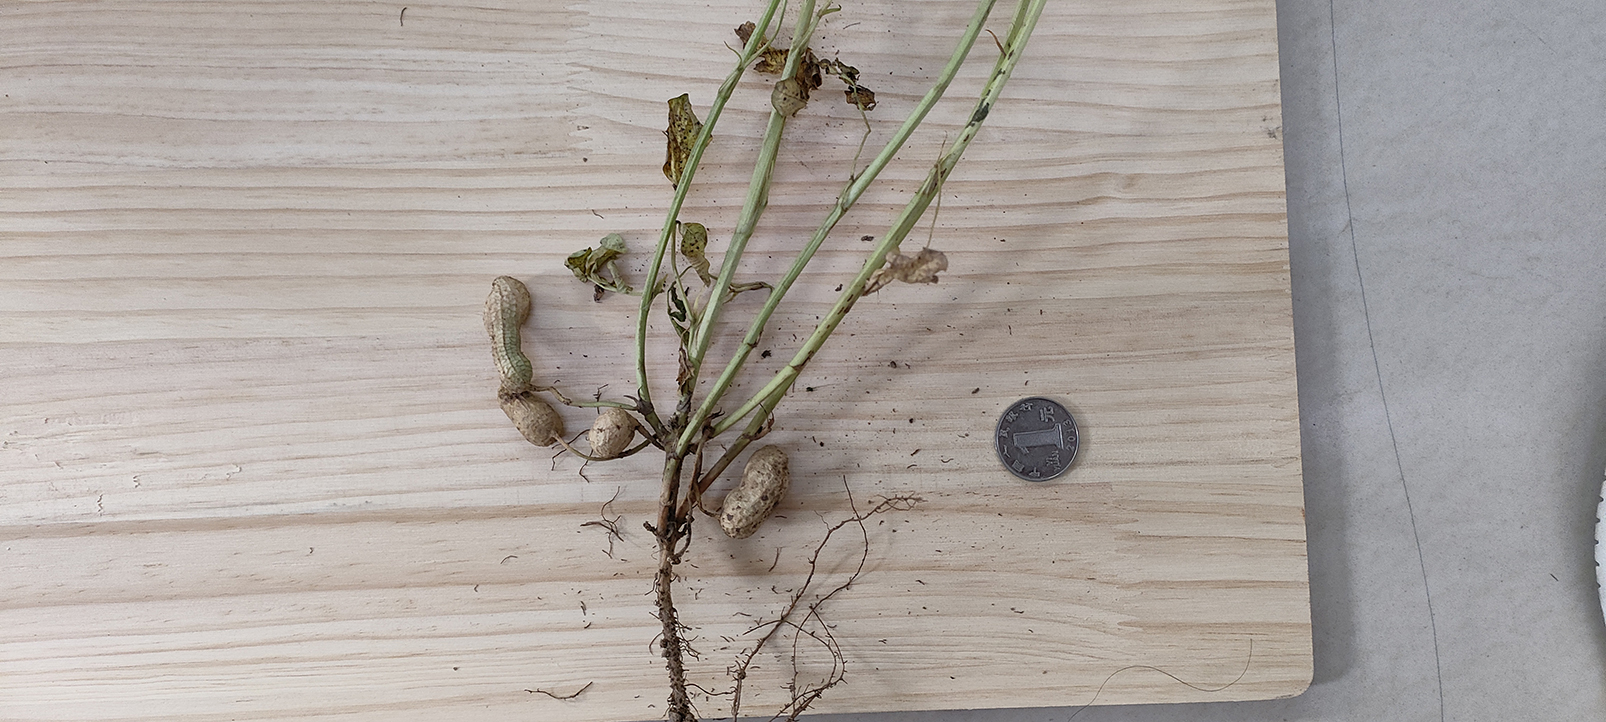h: (721, 450, 789, 538), (485, 275, 533, 394), (502, 396, 565, 449), (589, 409, 633, 458)
